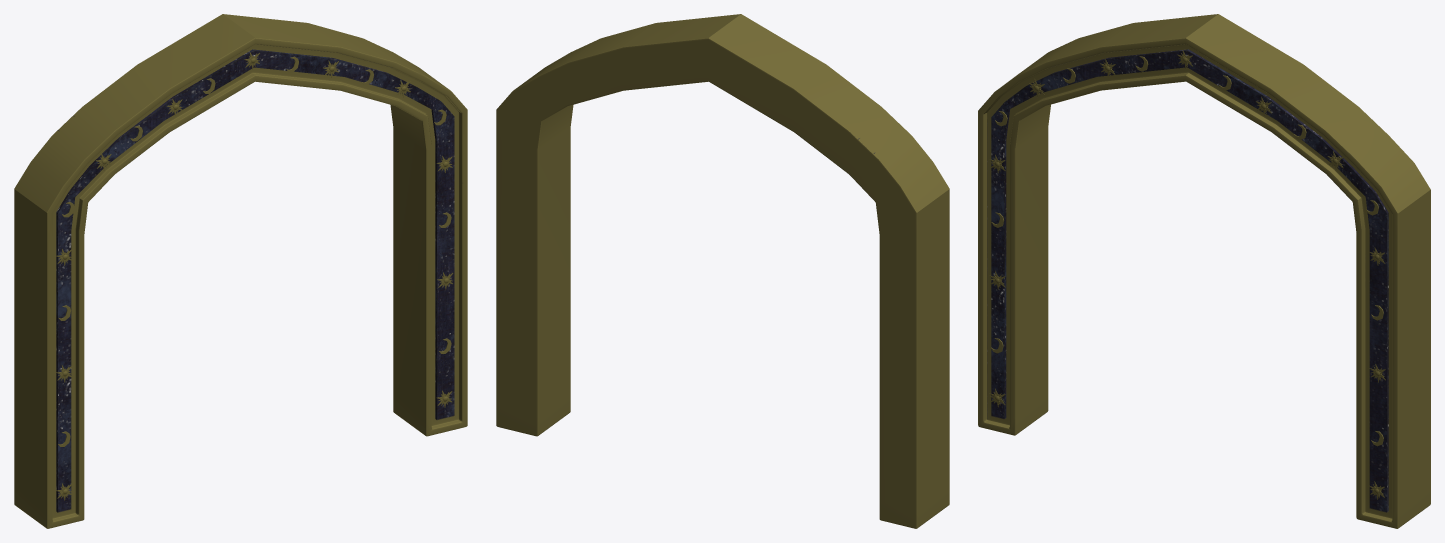
File: doorFramePre.glb
3 renders of one model, left to right at view 1: azimuth 30°, elevation 25°; view 2: azimuth 150°, elevation 25°; view 3: azimuth 330°, elevation 25°, orthographic.
Visible parts, largest first — view 1: Mesh_0.009; view 2: Mesh_0.009; view 3: Mesh_0.009.
Part boxes in pixels (bbox=[...]): Mesh_0.009: bbox=[14, 14, 467, 528]; Mesh_0.009: bbox=[496, 14, 949, 528]; Mesh_0.009: bbox=[978, 14, 1430, 528].
Bounding box in the file's own units: 2.08 × 2.08 × 0.2854.
Materials: 1 (1 with a texture image).
